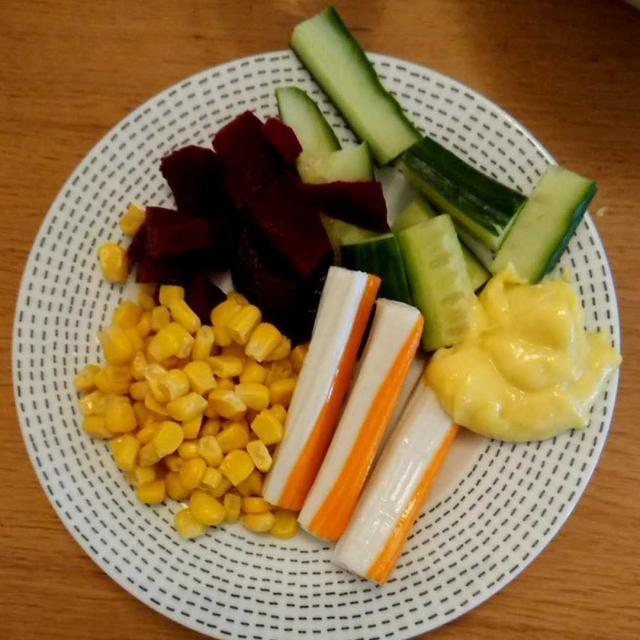beetroot: (135, 117, 391, 333)
corn: (98, 198, 306, 552)
cucumber: (273, 24, 593, 346)
mayonnaise: (426, 272, 607, 448)
